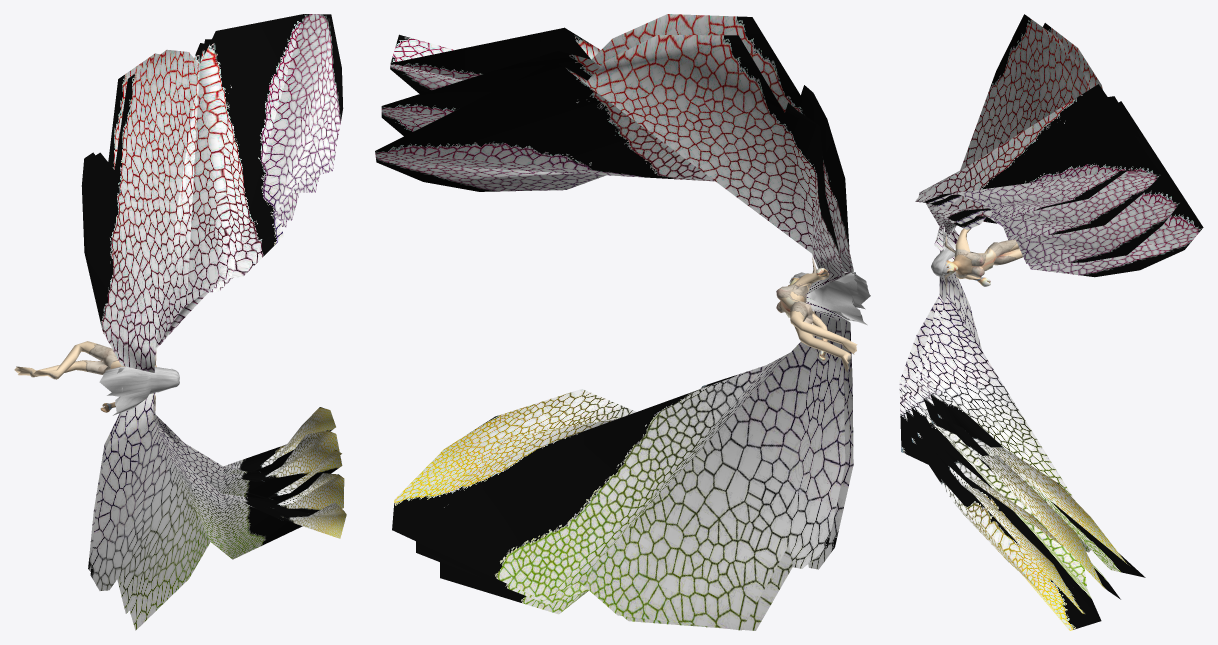
The model's file is angel_000221.obj.
3 renders of one model, left to right at view 1: azimuth 30°, elevation 25°; view 2: azimuth 150°, elevation 25°; view 3: azimuth 270°, elevation 25°, orthographic. The views are drawn at different scales.
Parts seen in each view (by area): view 1: wings_Plane.001, hair.003_omino.013, body.001_omino.012; view 2: wings_Plane.001, body.001_omino.012, hair.003_omino.013; view 3: wings_Plane.001, body.001_omino.012, hair.003_omino.013.
Boxes of the visible parts, box(x1,y1,x2,y2) form: wings_Plane.001: box(81, 14, 346, 630); hair.003_omino.013: box(99, 366, 179, 415); body.001_omino.012: box(14, 333, 156, 412); wings_Plane.001: box(375, 14, 853, 630); body.001_omino.012: box(776, 255, 857, 372); hair.003_omino.013: box(789, 271, 870, 325); wings_Plane.001: box(899, 14, 1203, 630); body.001_omino.012: box(944, 228, 1022, 291); hair.003_omino.013: box(931, 229, 954, 276).
Bounding box in the file's own units: 6.78 × 9.84 × 5.19.
